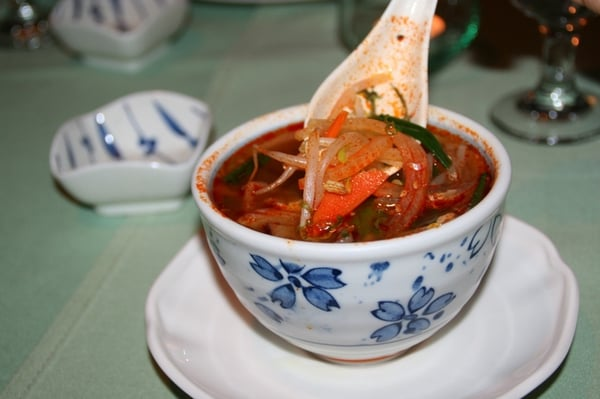sushi: (191, 20, 512, 358)
